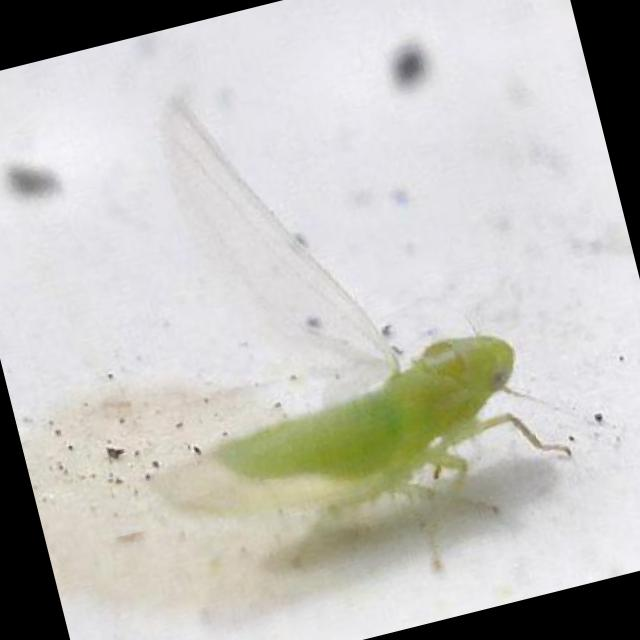green-leafhopper: (142, 320, 565, 600)
